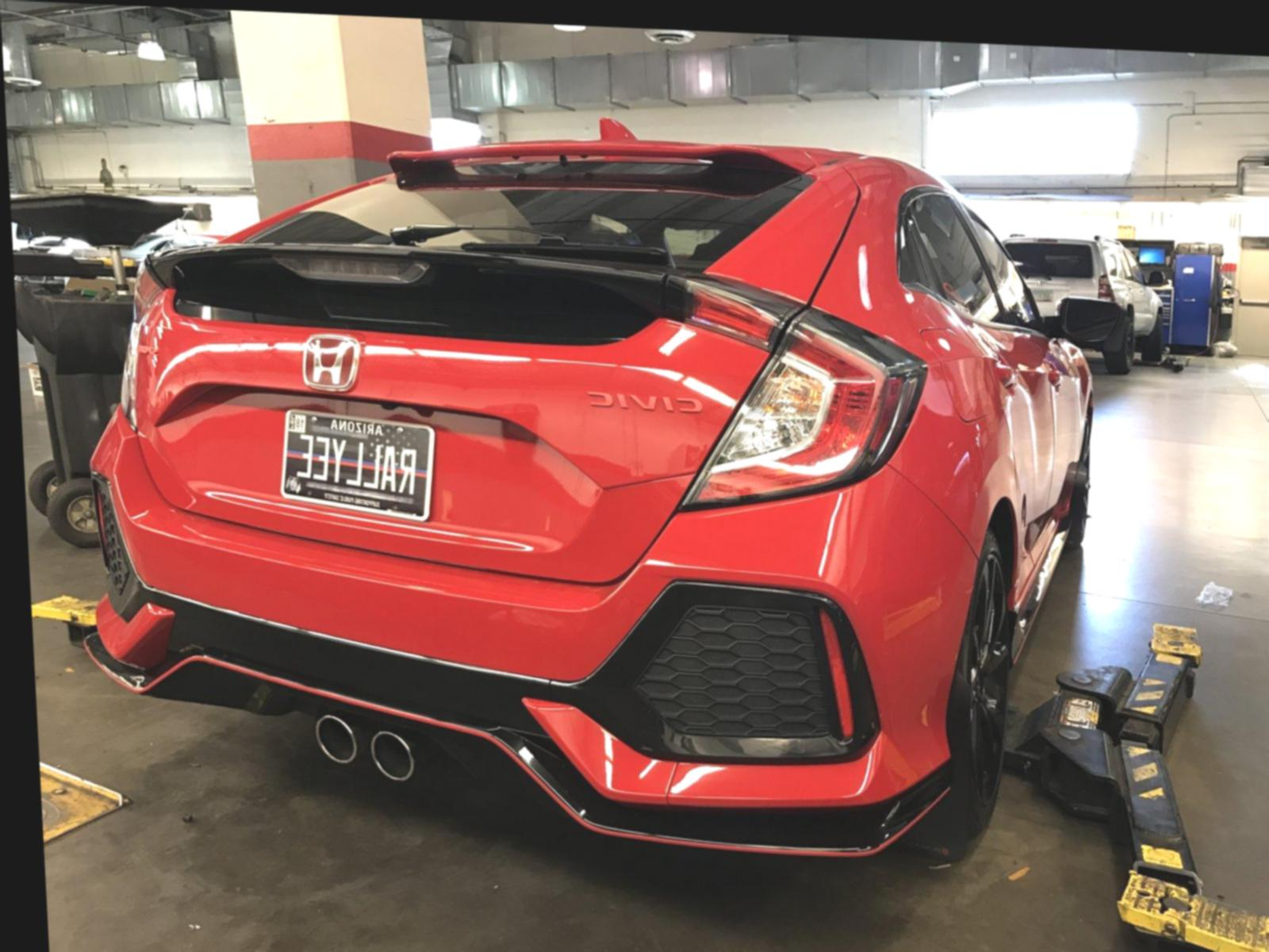License_Plate: (269, 401, 453, 528)
